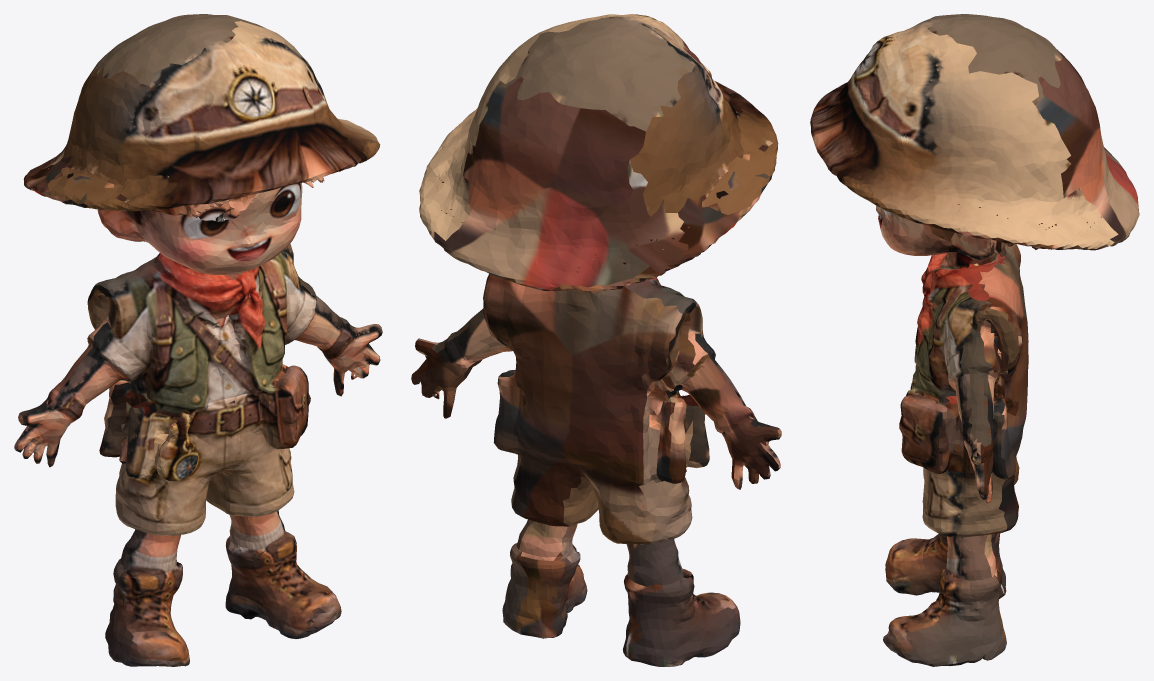
Rendered from explorer_boy.glb.
3 views of the same model, side by side, from view 1: azimuth 30°, elevation 25°; view 2: azimuth 150°, elevation 25°; view 3: azimuth 270°, elevation 25° (orthographic). The views are drawn at different scales.
Parts seen in each view (by area): view 1: geometry_0; view 2: geometry_0; view 3: geometry_0.
Boxes of the visible parts, box(x1,y1,x2,y2) form: geometry_0: box(14, 14, 382, 666); geometry_0: box(411, 14, 781, 666); geometry_0: box(810, 14, 1139, 666).
Size of the model in its own units: 0.6312 by 1 by 0.5005.
Materials: 1 (1 with a texture image).
